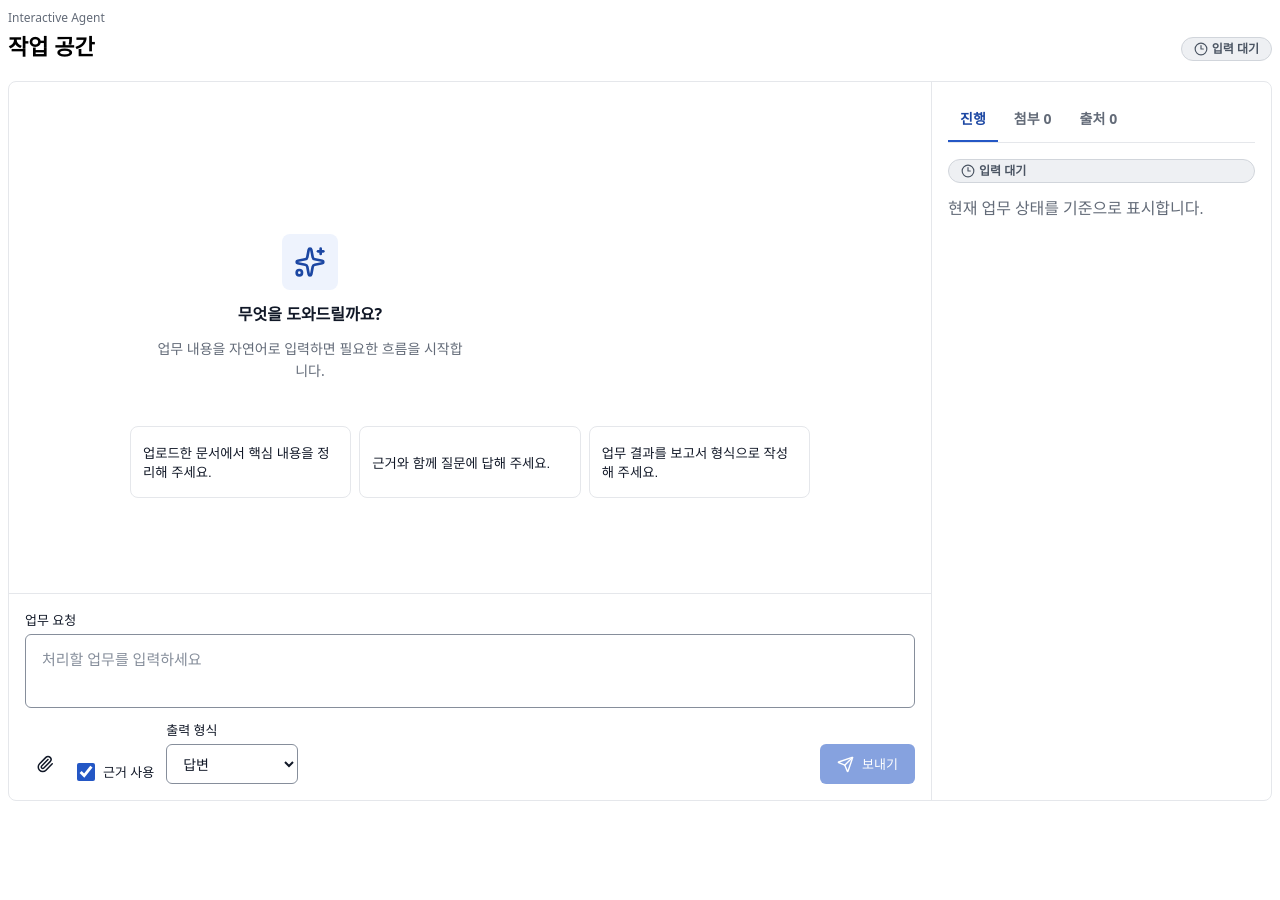
WorkspacePage › shows a safe retry message when submission fails
The width and height of the screenshot is (1280, 900).
Step 1. Type "실패 경로" into the text box labelled "업무 요청" → {"x": 470, "y": 671}, box [25, 634, 915, 708]
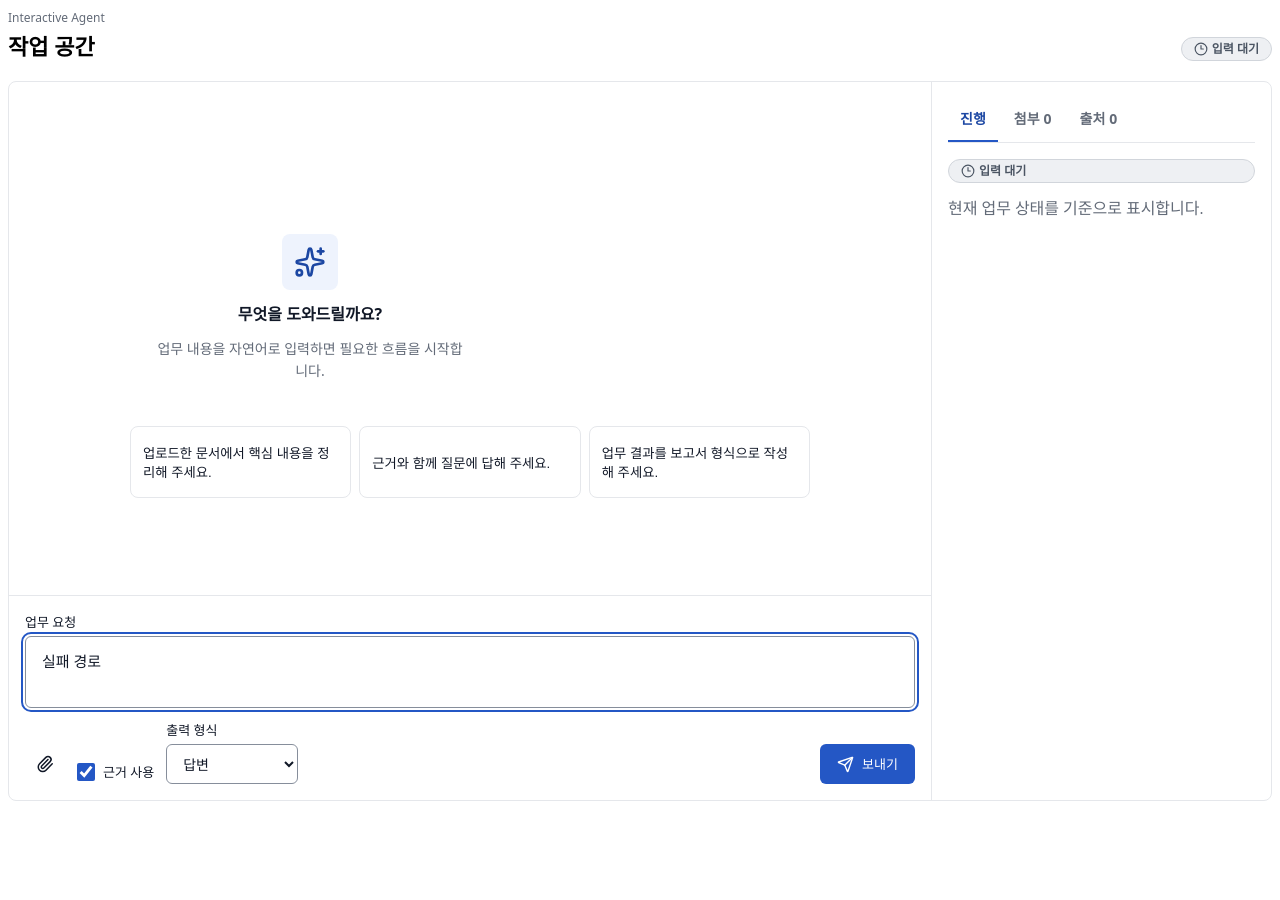
Step 2. Click the button "보내기" → {"x": 868, "y": 764}, box [820, 744, 915, 784]
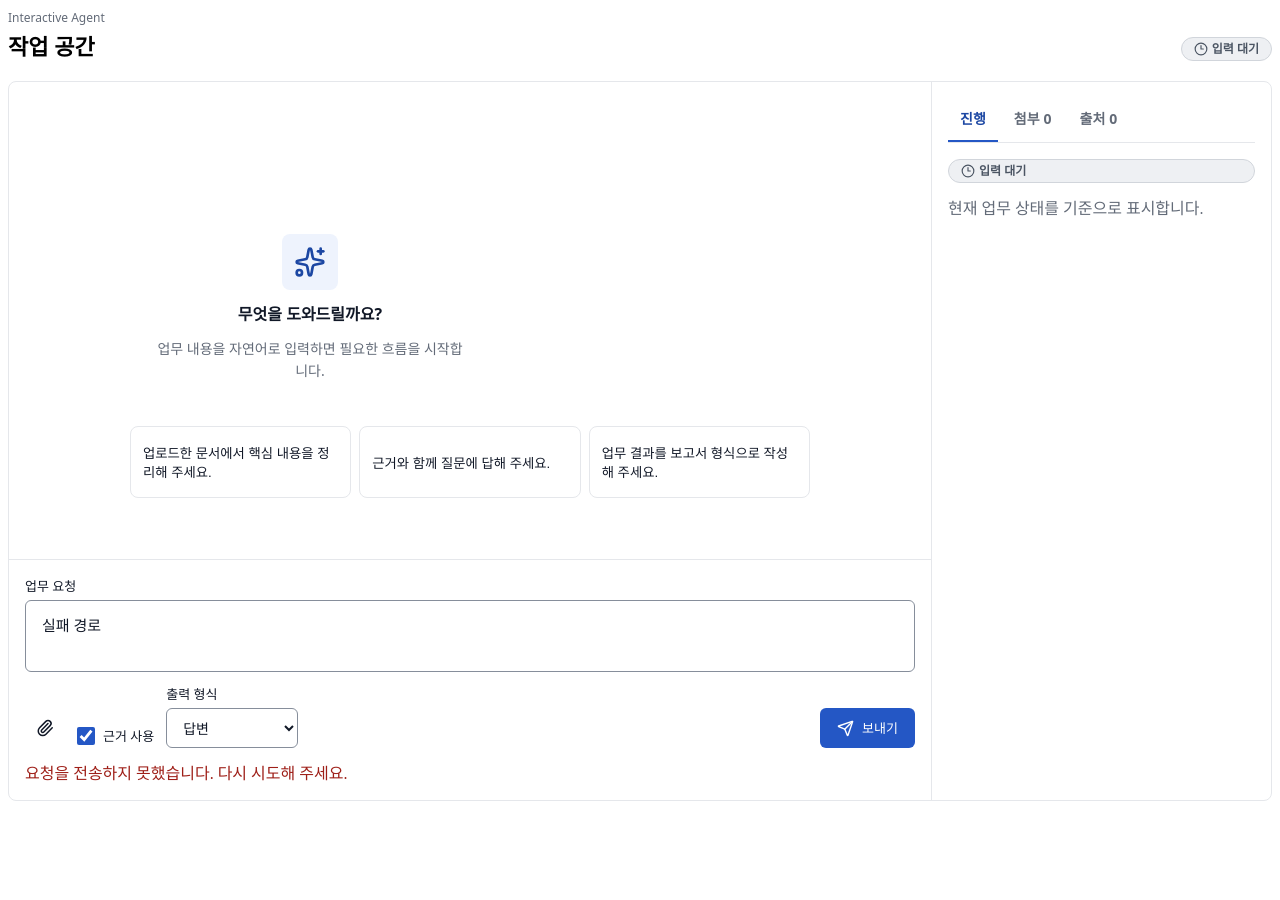
Result: the message shows "다시 시도해 주세요" at [25, 765, 347, 782]
